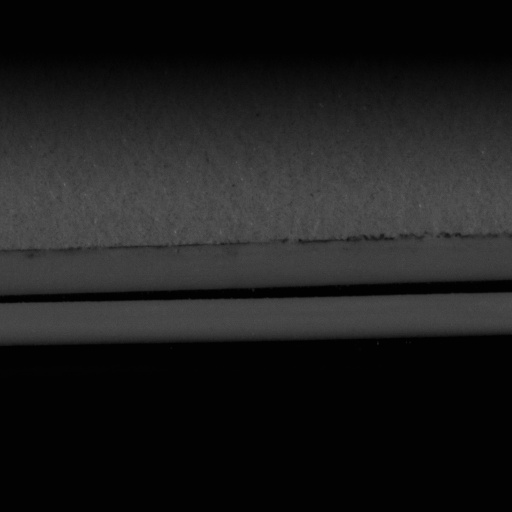kaijiao: (0, 230, 511, 348)
